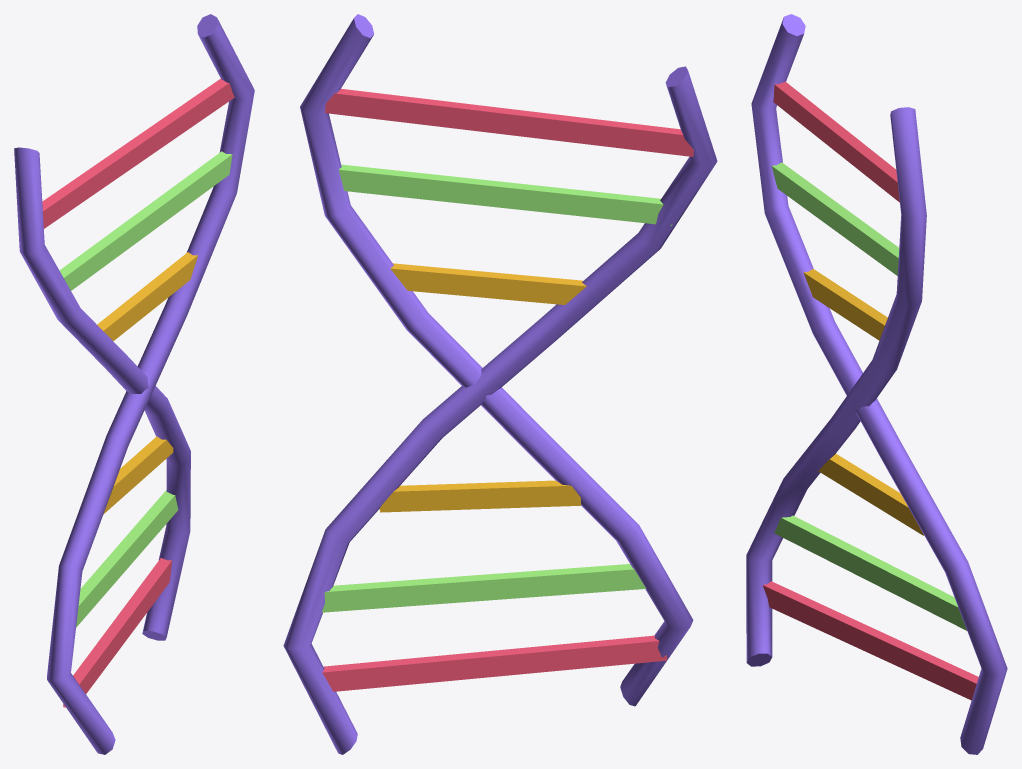
Rendered from TotemPontoDeMutacao.fbx.
3 renders of one model, left to right at view 1: azimuth 30°, elevation 25°; view 2: azimuth 150°, elevation 25°; view 3: azimuth 270°, elevation 25°, orthographic. The views are drawn at different scales.
Visible parts, largest first — view 1: PontoMutacao; view 2: PontoMutacao; view 3: PontoMutacao.
Boxes of the visible parts, left/top/right/bottom form: PontoMutacao: left=14, top=14, right=254, bottom=754; PontoMutacao: left=283, top=14, right=717, bottom=754; PontoMutacao: left=746, top=14, right=1007, bottom=754.
Size of the model in its own units: 67.74 by 137 by 49.37.
